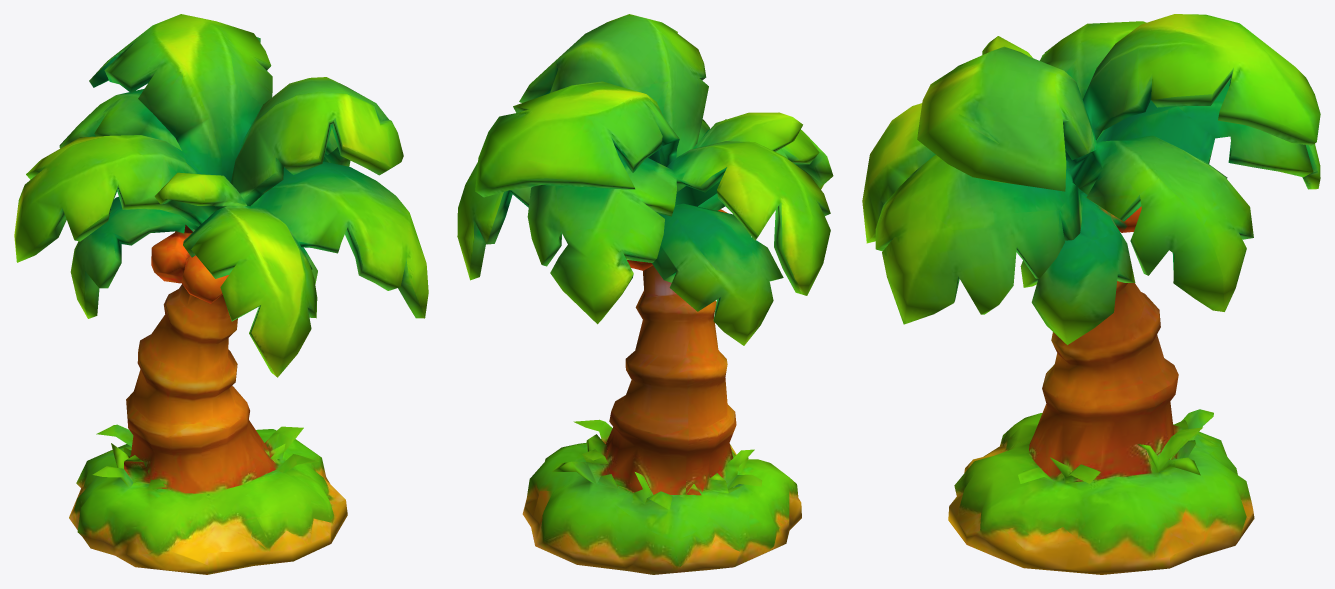
Rendered from palm_tree-ebo8sd7K.glb.
3 renders of one model, left to right at view 1: azimuth 30°, elevation 25°; view 2: azimuth 150°, elevation 25°; view 3: azimuth 270°, elevation 25°, orthographic. The views are drawn at different scales.
Parts seen in each view (by area): view 1: palm_tree; view 2: palm_tree; view 3: palm_tree.
Boxes of the visible parts, x1,y1,x2,y2 form: palm_tree: (14,14,428,574); palm_tree: (457,14,833,574); palm_tree: (862,14,1320,574).
Size of the model in its own units: 4.08 by 5.2 by 4.37.
1 material, 1 textured.
